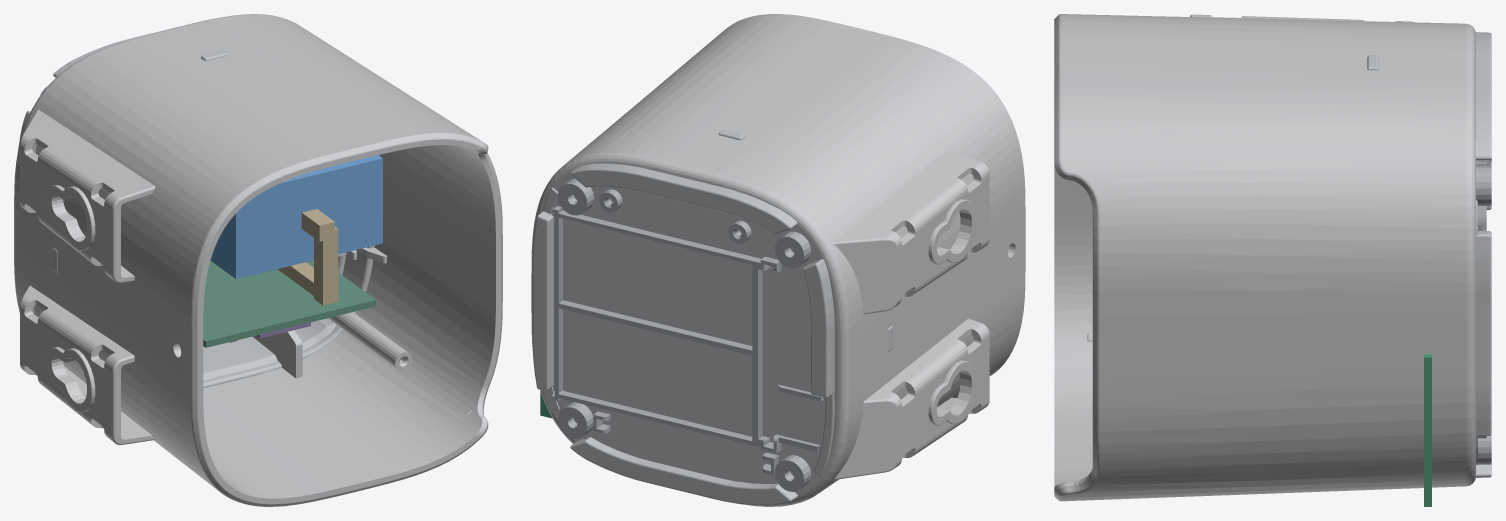
Rendered from original.glb.
3 views of the same model, side by side, from view 1: azimuth 30°, elevation 25°; view 2: azimuth 150°, elevation 25°; view 3: azimuth 270°, elevation 25° (orthographic). The views are drawn at different scales.
Parts seen in each view (by area): view 1: Cover, PMS5003T, PCB, Base, PM cable; view 2: Cover, Base, Grill; view 3: Cover, Base, Grill, CO2 carrier.
Boxes of the visible parts, x1=… form: Cover: x1=14, y1=14, x2=502, y2=506; PMS5003T: x1=210, y1=155, x2=382, y2=279; PCB: x1=203, y1=260, x2=375, y2=347; Base: x1=18, y1=19, x2=374, y2=388; PM cable: x1=277, y1=209, x2=338, y2=305; Cover: x1=531, y1=14, x2=1025, y2=506; Base: x1=532, y1=130, x2=892, y2=505; Grill: x1=552, y1=178, x2=823, y2=491; Cover: x1=1054, y1=14, x2=1475, y2=501; Base: x1=1367, y1=32, x2=1491, y2=477; Grill: x1=1476, y1=161, x2=1491, y2=464; CO2 carrier: x1=1424, y1=354, x2=1431, y2=506.
Size of the model in its own units: 91.49 by 84.97 by 85.
